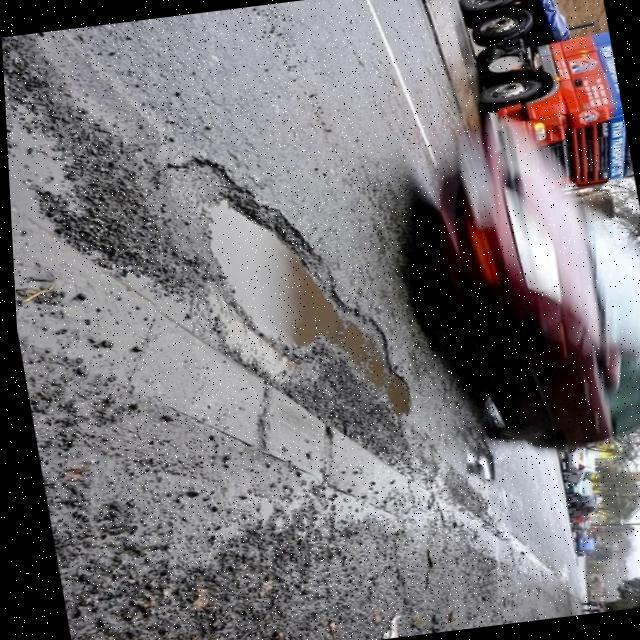Pothole: (163, 158, 421, 421), (457, 439, 500, 486)
